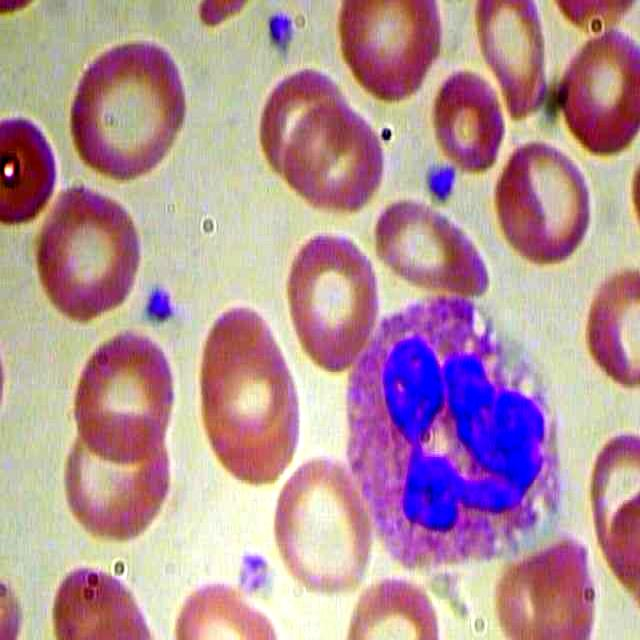Platelets: (229, 548, 278, 603), (140, 280, 183, 335), (262, 8, 300, 64), (419, 158, 456, 206)
RBC: (192, 304, 307, 491), (27, 180, 146, 327), (67, 32, 186, 179), (282, 224, 381, 375), (63, 409, 174, 542), (271, 451, 372, 597), (67, 328, 178, 460), (370, 191, 490, 304), (280, 91, 383, 212), (493, 140, 591, 265), (555, 25, 640, 164), (336, 1, 445, 108), (476, 1, 555, 127), (433, 67, 507, 185)
WBC: (330, 282, 566, 582)
